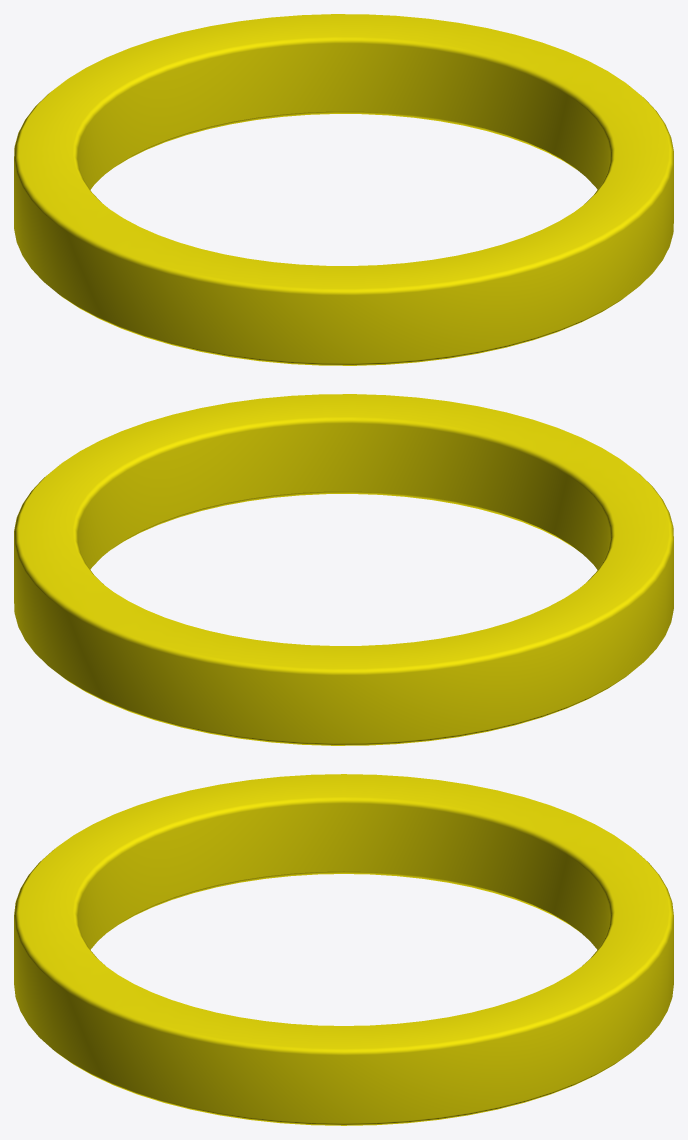
The picture shows the model from 3 angles, top to bottom: view 1: azimuth 30°, elevation 25°; view 2: azimuth 150°, elevation 25°; view 3: azimuth 270°, elevation 25°; orthographic projection.
Parts seen in each view (by area): view 1: seal_body; view 2: seal_body; view 3: seal_body.
Part boxes in pixels (x1,y1,x2,y2): seal_body: (14, 14, 673, 365); seal_body: (14, 394, 673, 745); seal_body: (14, 774, 673, 1125).
Size of the model in its own units: 0.062 by 0.008 by 0.062.
